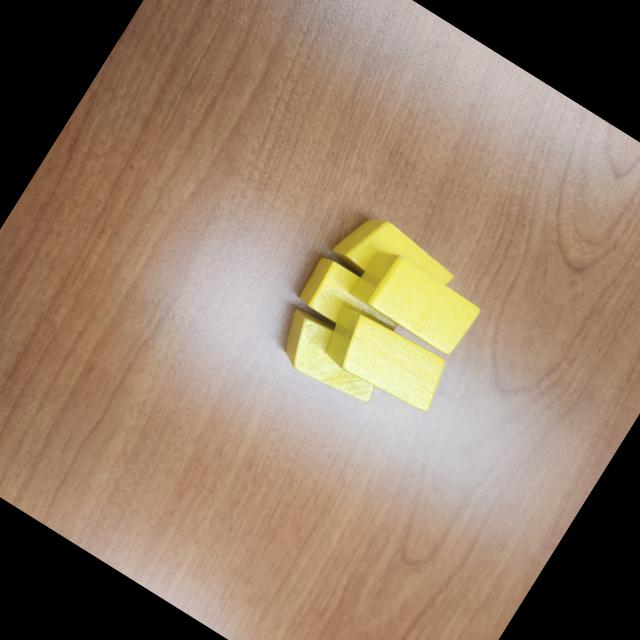yellow: (312, 298, 457, 420), (324, 201, 461, 319), (348, 242, 484, 360), (264, 302, 392, 413), (294, 252, 409, 353)
